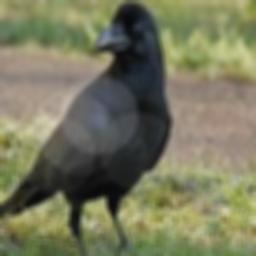Crow: (0, 0, 171, 256)
